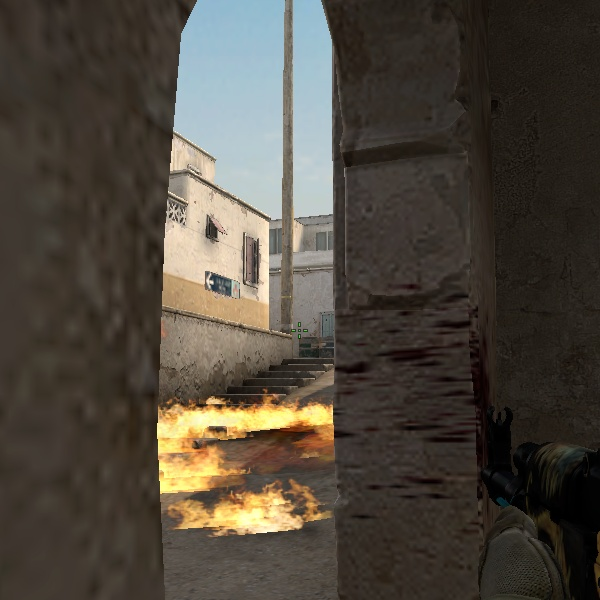t_body: (251, 472, 333, 527)
